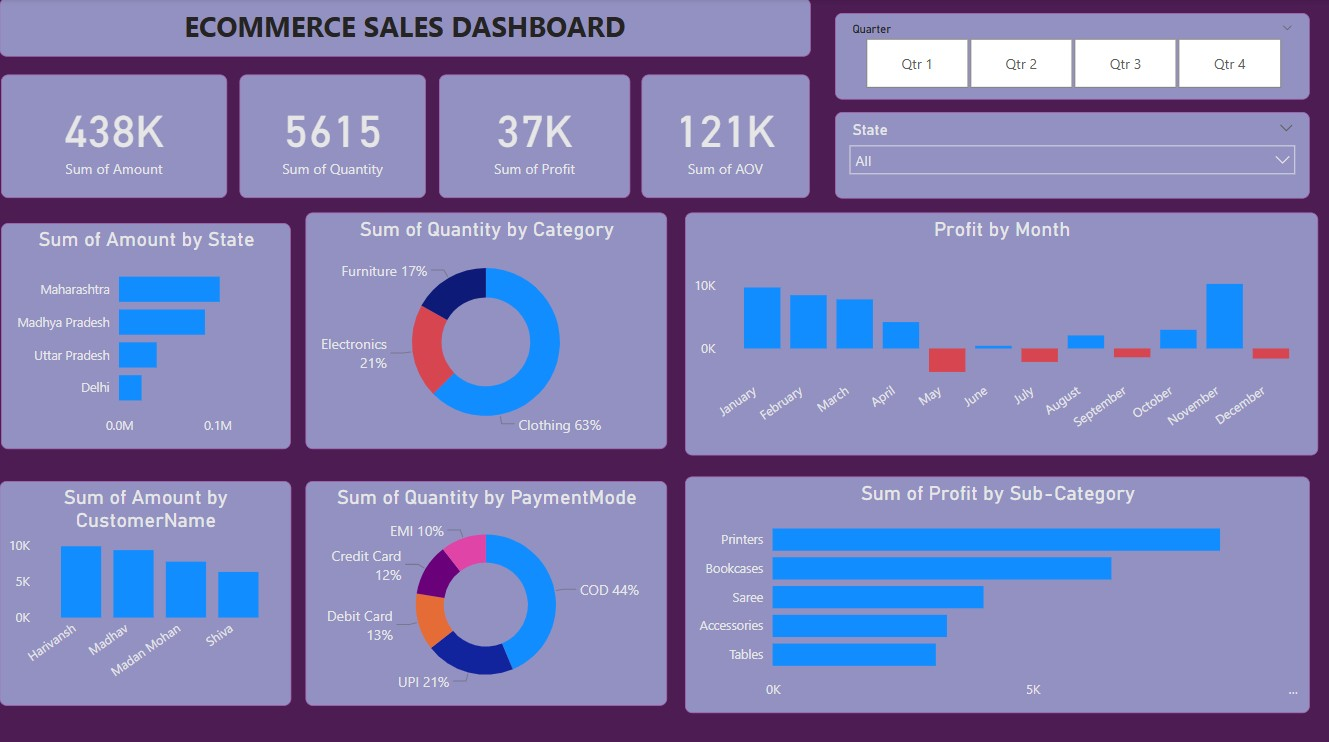

Layout of this report page (visuals, bound fields, positions):
{"tool":"powerbi","page":{"name":"Page 1","canvas":[1280,720],"ordinal":0},"visuals":[{"type":"textbox","box":[9.5,0,774.6,55.7],"z":0},{"type":"columnChart","title":"Profit by Month","fields":{"Category":["Orders.Order Date.Variation.Date Hierarchy.Month"],"Y":["Details.Profit"]},"box":[664.9,205.2,604.4,232.2],"z":1},{"type":"barChart","fields":{"Category":["Details.Sub-Category"],"Y":["Details.Profit"]},"box":[664.9,456.5,596.5,225.9],"z":2},{"type":"donutChart","fields":{"Category":["Details.Category"],"Y":["Details.Quantity"]},"box":[302.2,205.2,345.2,225.9],"z":3},{"type":"donutChart","fields":{"Category":["Details.PaymentMode","Details.Category"],"Y":["Details.Quantity"]},"box":[302.2,461.3,345.2,214.7],"z":4},{"type":"card","fields":{"Values":["Details.Amount"]},"box":[11.1,73.2,216.3,117.7],"z":5},{"type":"card","fields":{"Values":["Details.Quantity"]},"box":[238.6,73.2,178.1,117.7],"z":6},{"type":"card","fields":{"Values":["Details.Profit"]},"box":[429.5,73.2,182.9,117.7],"z":7},{"type":"card","fields":{"Values":["Details.AOV"]},"box":[623.5,73.2,160.7,117.7],"z":8},{"type":"barChart","fields":{"Category":["Orders.State"],"Y":["Details.Amount"]},"box":[11.1,214.7,276.8,216.3],"z":9},{"type":"columnChart","fields":{"Category":["Orders.CustomerName"],"Y":["Details.Amount"]},"box":[9.5,461.3,278.4,214.7],"z":10},{"type":"slicer","fields":{"Values":["Orders.Order Date.Variation.Date Hierarchy.Quarter"]},"box":[808,14.3,453.3,82.7],"z":11},{"type":"slicer","fields":{"Values":["Orders.State"]},"box":[808,108.2,453.3,82.7],"z":12}]}

Visuals, with their boxes in screenshot pixels (x1, y1, x2, y2), scaled from the page's 1280x720 canvas onto the 1329x742 screenshot:
textbox: select_region(10, 0, 814, 57)
"Profit by Month" columnChart: select_region(690, 211, 1318, 451)
barChart - Details.Sub-Category x Details.Profit: select_region(690, 470, 1310, 703)
donutChart - Details.Category x Details.Quantity: select_region(314, 211, 672, 444)
donutChart - Details.PaymentMode x Details.Category: select_region(314, 475, 672, 697)
card - Details.Amount: select_region(12, 75, 236, 197)
card - Details.Quantity: select_region(248, 75, 433, 197)
card - Details.Profit: select_region(446, 75, 636, 197)
card - Details.AOV: select_region(647, 75, 814, 197)
barChart - Orders.State x Details.Amount: select_region(12, 221, 299, 444)
columnChart - Orders.CustomerName x Details.Amount: select_region(10, 475, 299, 697)
slicer - Orders.Order Date.Variation.Date Hierarchy.Quarter: select_region(839, 15, 1310, 100)
slicer - Orders.State: select_region(839, 112, 1310, 197)
